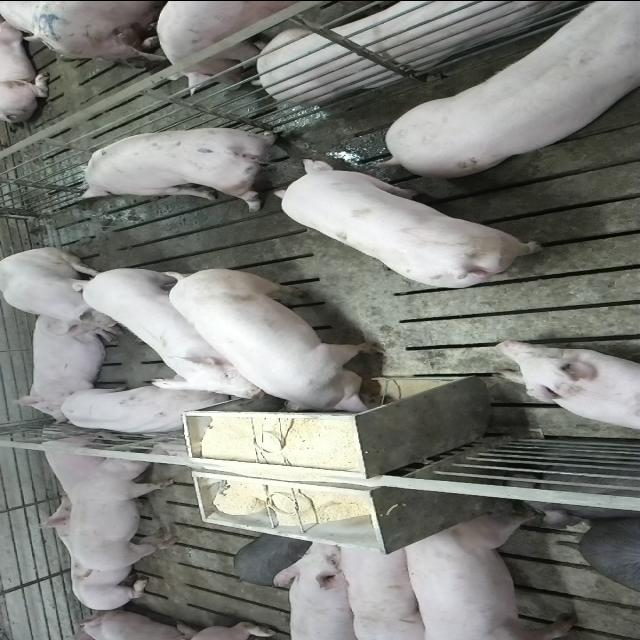Feeding: (165, 271, 385, 422)
Lateral_lying: (150, 0, 590, 102)
Sitting: (1, 246, 132, 334), (59, 384, 221, 436)
Standing: (381, 0, 640, 173), (276, 159, 554, 293), (76, 262, 272, 398), (398, 508, 578, 638), (74, 123, 296, 210), (67, 448, 177, 574), (329, 532, 432, 638), (272, 535, 370, 640)
Sternal_lying: (30, 496, 158, 608), (492, 339, 640, 434), (18, 315, 128, 424), (35, 428, 117, 500)
